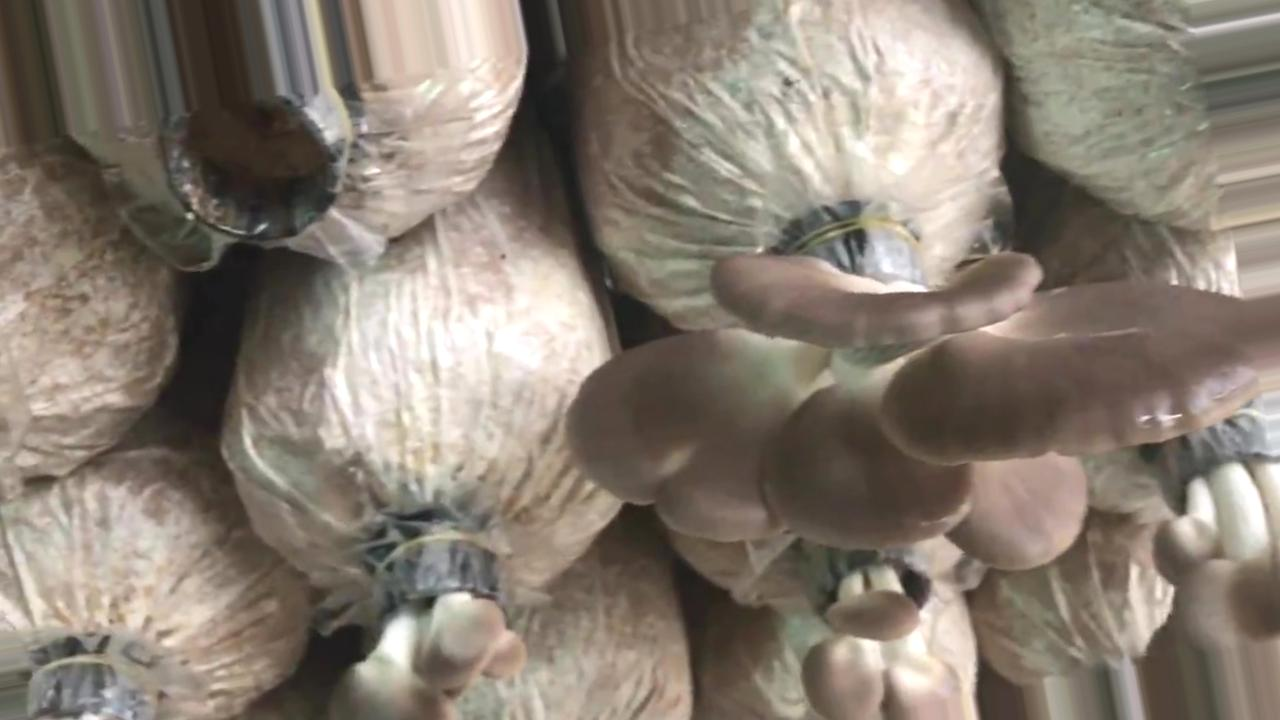nam: (561, 210, 1280, 575), (324, 503, 527, 720), (1143, 395, 1280, 649), (796, 543, 967, 720)
